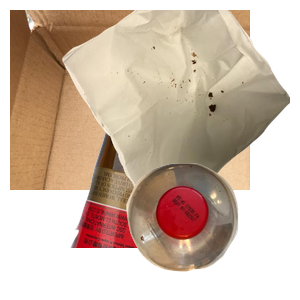cardboard: (10, 10, 250, 190)
glass: (68, 120, 255, 300)
plastic: (124, 161, 300, 300)
trash: (60, 10, 300, 190)
